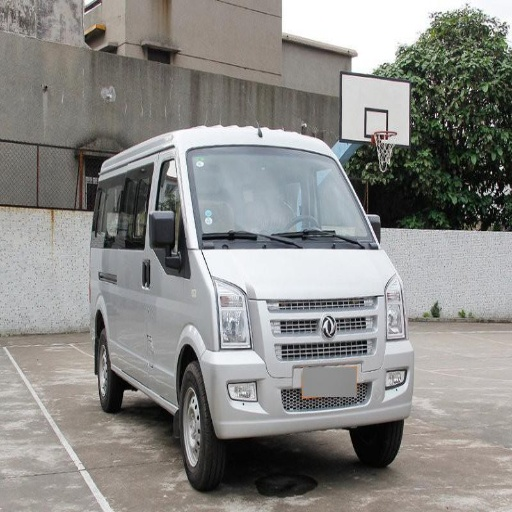front_bumper: (201, 295, 413, 437)
front_right_door: (136, 156, 192, 379)
front_right_light: (215, 286, 253, 349)
hood: (209, 249, 393, 318)
